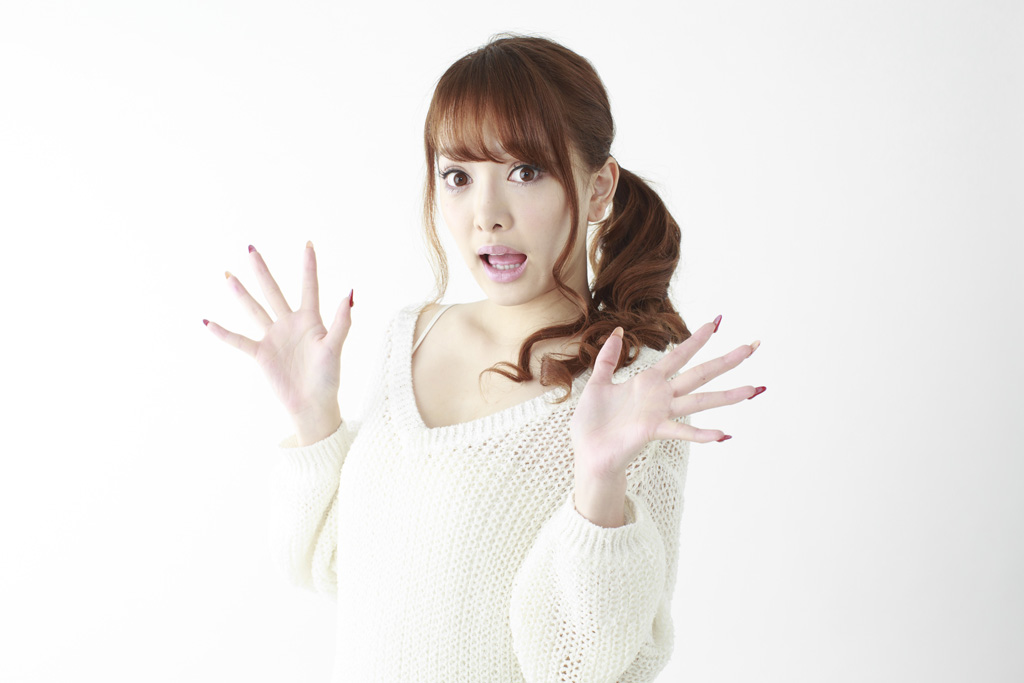face: (435, 102, 619, 308)
hand: (199, 234, 356, 433), (569, 313, 764, 469)
